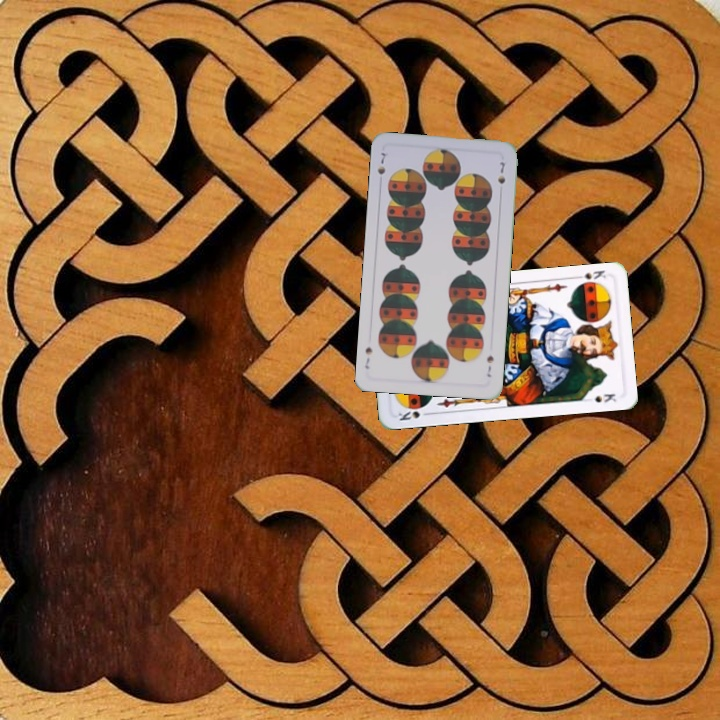S7: (373, 148, 390, 177), (483, 351, 496, 380)
SK: (393, 407, 434, 423), (570, 266, 608, 282)
